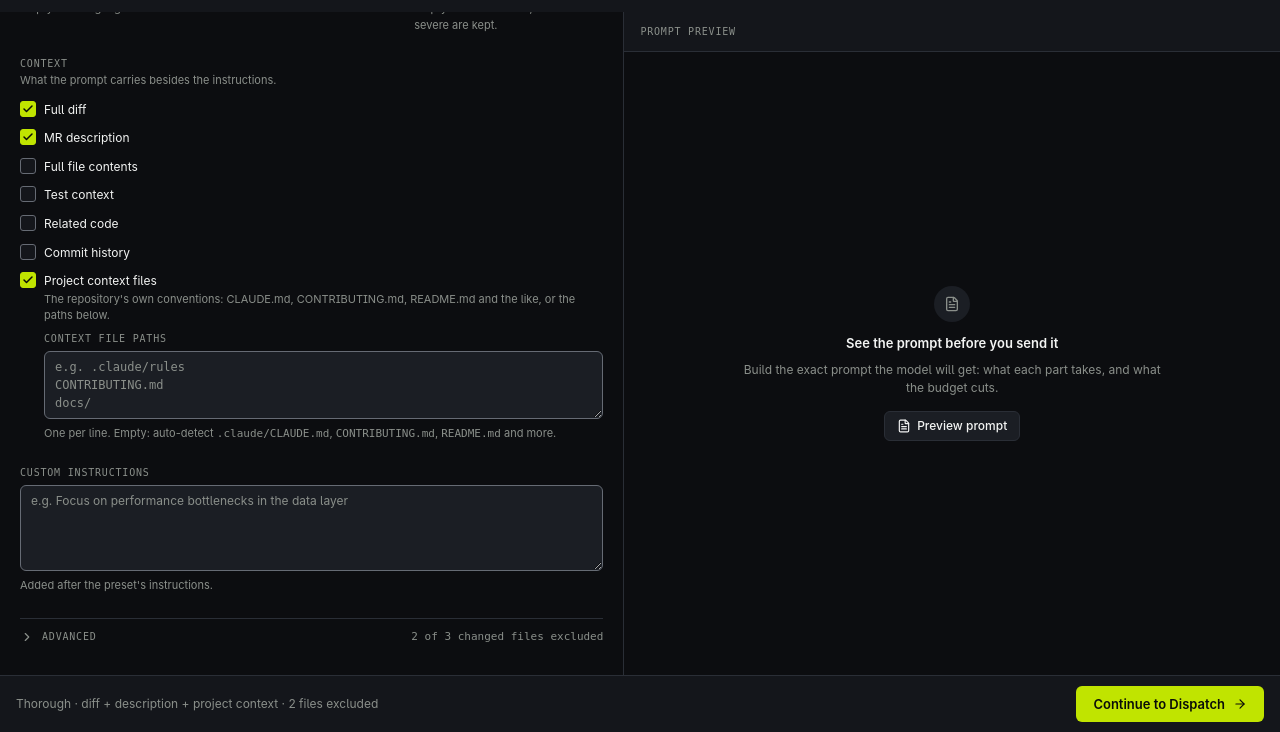
Test: BriefStage — advanced › moves focus to the next file it can take back, then to the summary
The width and height of the screenshot is (1280, 732).
(page scrolled)
Click the button "Advanced 2 of 3 changed files excluded" at (69, 637), box x1=20 y1=619 x2=603 y2=655
(page scrolled)
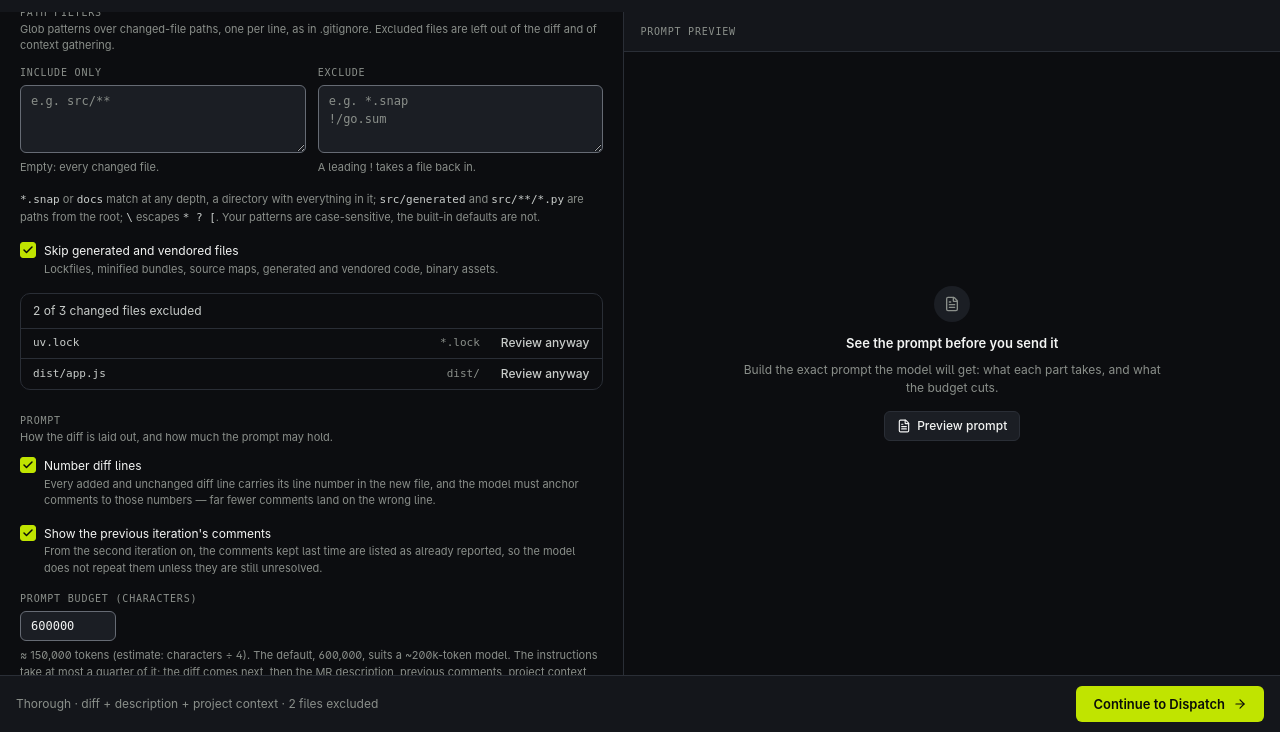
Click the button with aria-label "Review anyway: uv.lock" at (545, 343), box x1=492 y1=331 x2=598 y2=355
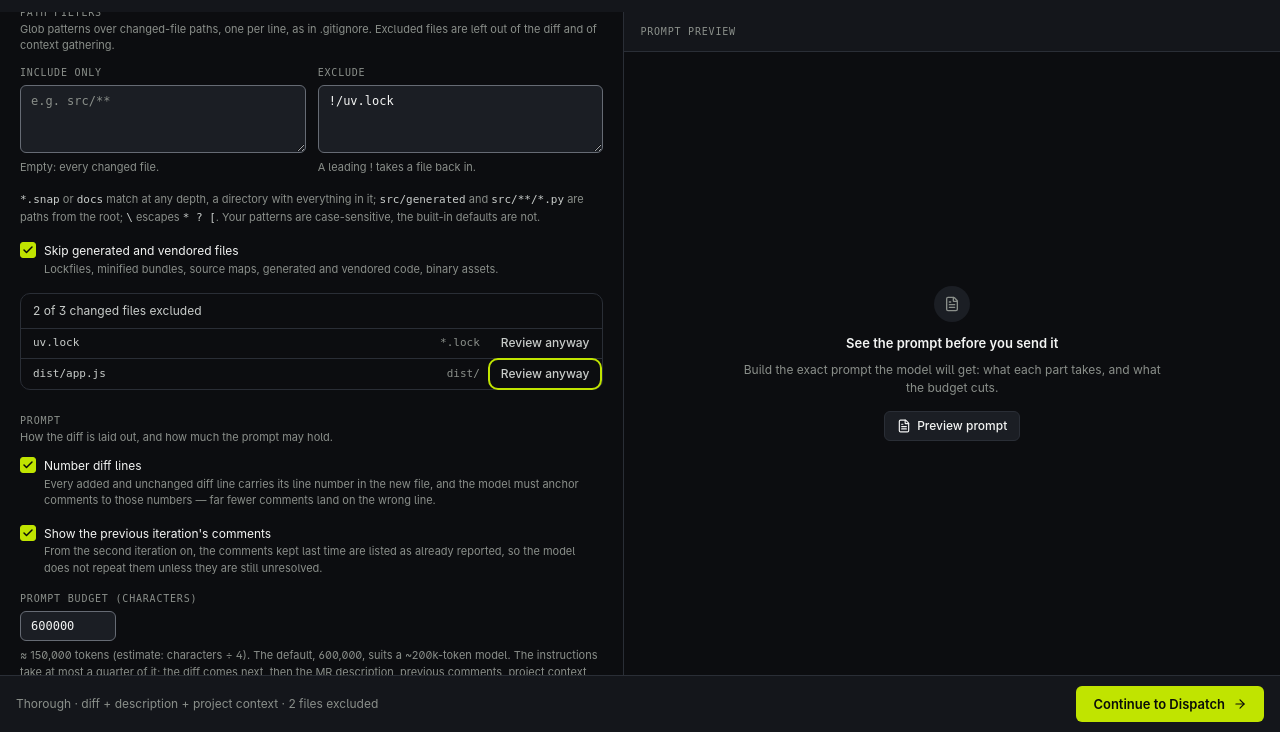
Click the button with aria-label "Review anyway: dist/app.js" at (545, 374), box x1=492 y1=362 x2=598 y2=386
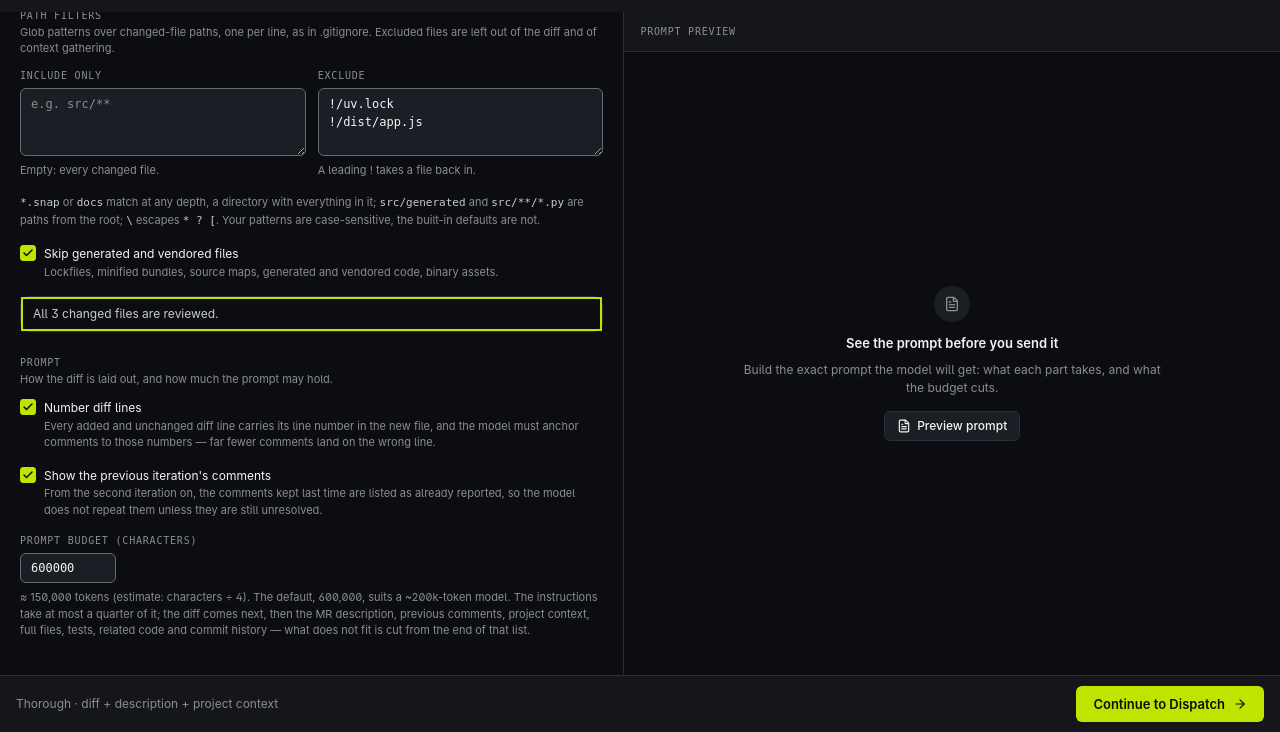
Check: the text "All 3 changed files are reviewed." is shown, box x1=33 y1=306 x2=218 y2=321
